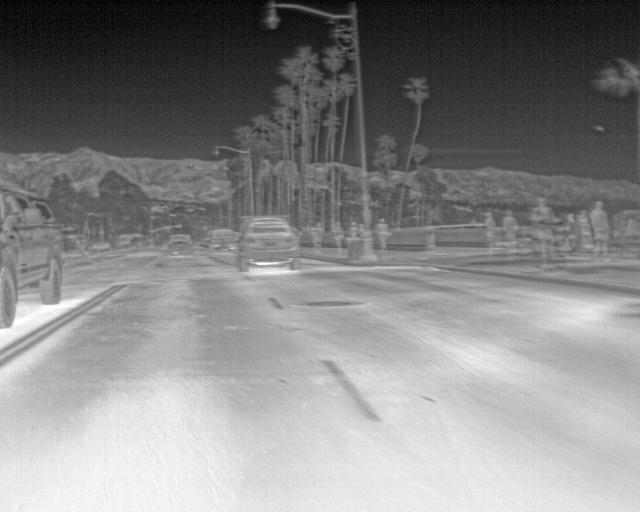bicycle: (0, 181, 66, 327), (235, 214, 302, 271), (209, 227, 240, 256), (165, 232, 194, 259)
empty: (590, 198, 612, 258), (496, 210, 520, 252), (529, 197, 561, 224), (481, 210, 500, 253), (328, 220, 347, 252), (373, 218, 390, 252), (308, 222, 325, 253), (348, 220, 360, 241)
